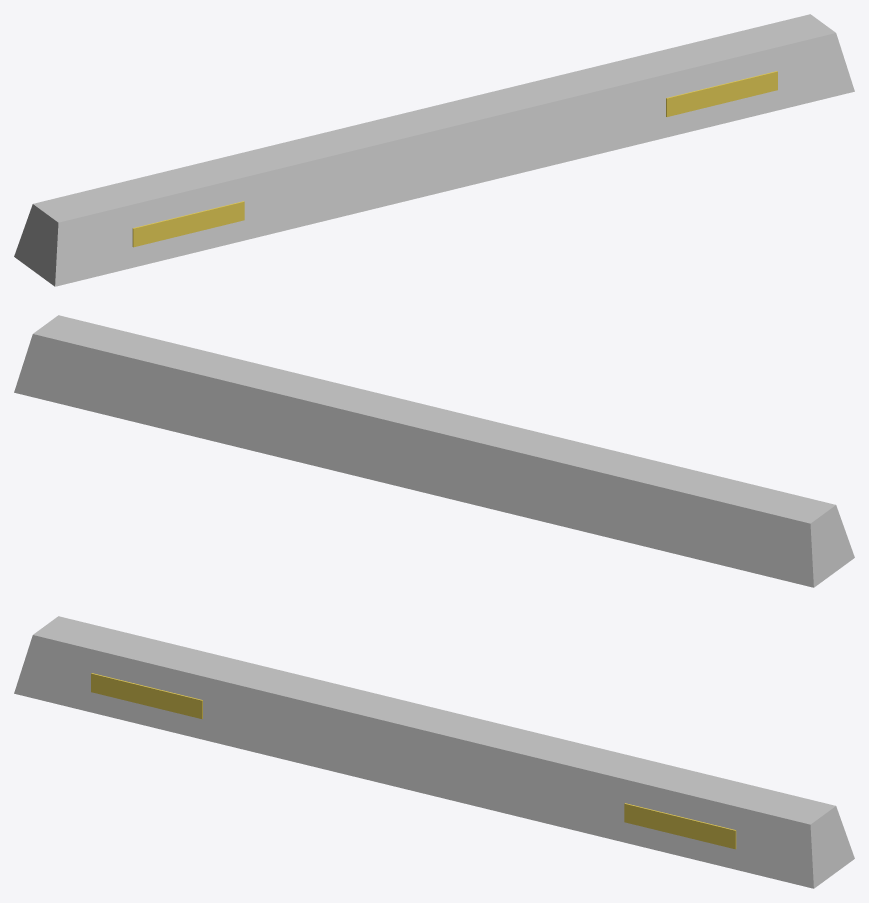
Rendered from curb_wheel_stop.glb.
3 views of the same model, one above another, from view 1: azimuth 30°, elevation 25°; view 2: azimuth 150°, elevation 25°; view 3: azimuth 330°, elevation 25° (orthographic).
Visible parts, largest first — view 1: curb_wheel_stop; view 2: curb_wheel_stop; view 3: curb_wheel_stop.
Part boxes in pixels (left/top/right/bottom): curb_wheel_stop: left=14, top=14, right=854, bottom=286; curb_wheel_stop: left=14, top=315, right=854, bottom=587; curb_wheel_stop: left=14, top=616, right=854, bottom=888.
Bounding box in the file's own units: 1.8 × 0.12 × 0.1625.
